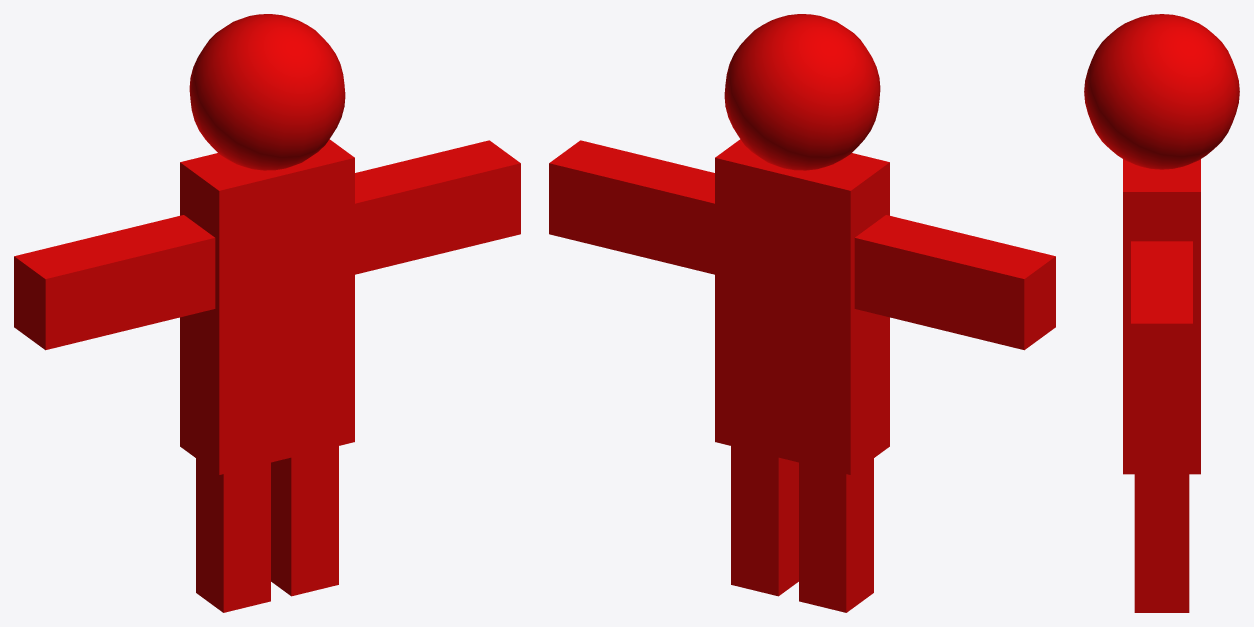
The model's file is BossEnemy.fbx.
3 renders of one model, left to right at view 1: azimuth 30°, elevation 25°; view 2: azimuth 150°, elevation 25°; view 3: azimuth 270°, elevation 25°, orthographic.
Visible parts, largest first — view 1: pCube6; view 2: pCube6; view 3: pCube6.
Part boxes in pixels (x1,y1,x2,y2): pCube6: (14,14,520,612); pCube6: (549,14,1055,612); pCube6: (1084,14,1239,612).
Bounding box in the file's own units: 7 × 7.99 × 2.
